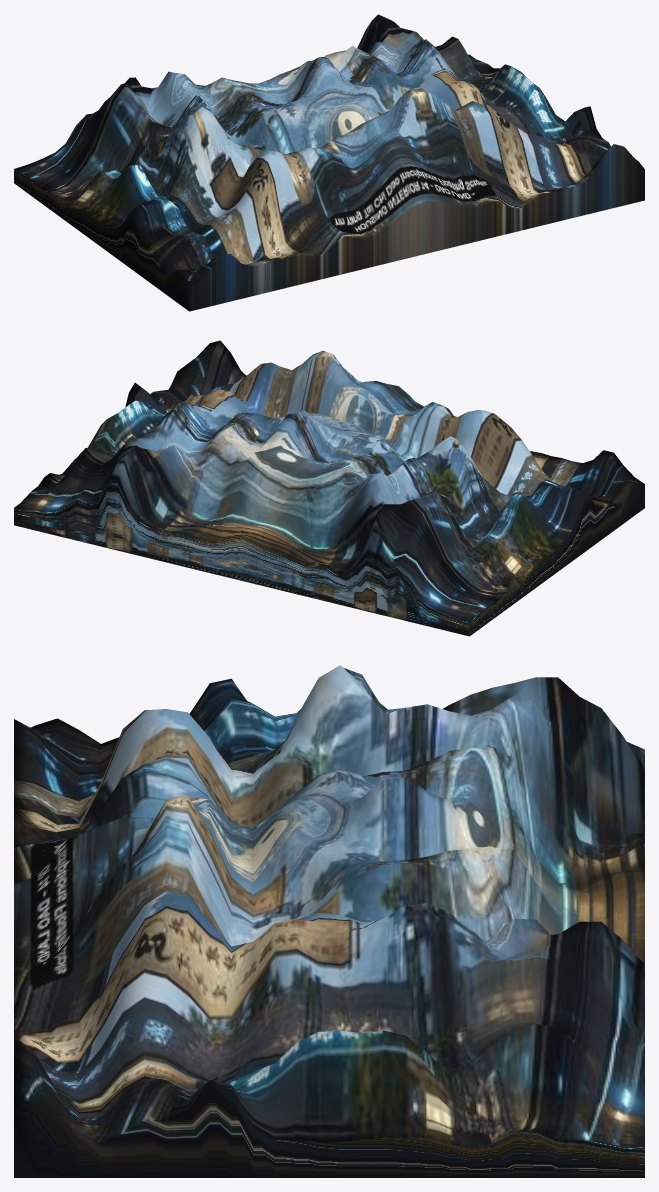
File: INTERIOR_14_Dao_Land.glb
The picture shows the model from 3 angles, top to bottom: view 1: azimuth 30°, elevation 25°; view 2: azimuth 150°, elevation 25°; view 3: azimuth 270°, elevation 25°; orthographic projection. The views are drawn at different scales.
Visible parts, largest first — view 1: INTERIOR_14_Dao_Land; view 2: INTERIOR_14_Dao_Land; view 3: INTERIOR_14_Dao_Land.
Part boxes in pixels (x1,y1,x2,y2): INTERIOR_14_Dao_Land: (14,14,644,311); INTERIOR_14_Dao_Land: (14,340,644,636); INTERIOR_14_Dao_Land: (14,665,644,1177).
Bounding box in the file's own units: 2 × 0.51 × 1.33.
Materials: 1 (1 with a texture image).
